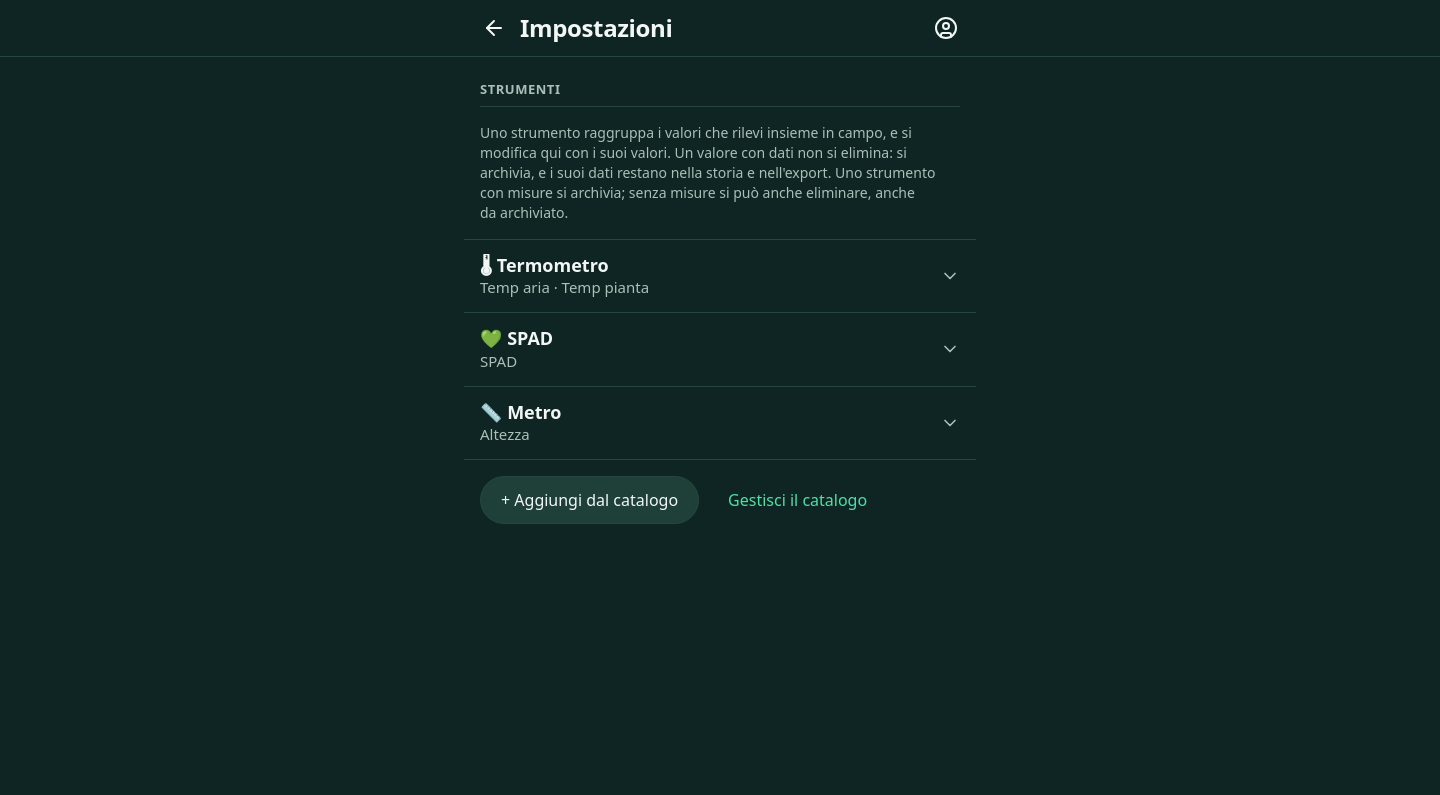
Test case: Impostazioni: dal piano › "Archivia" su uno strumento con misure lo archivia (nessun delete); "Elimina" resta visibile anche con misure
Expected: the element "Strumenti" is shown, [480,81,960,524]
Click the button "🌡 Termometro Temp aria · Temp pianta" at (544, 265), box [464,240,976,312]
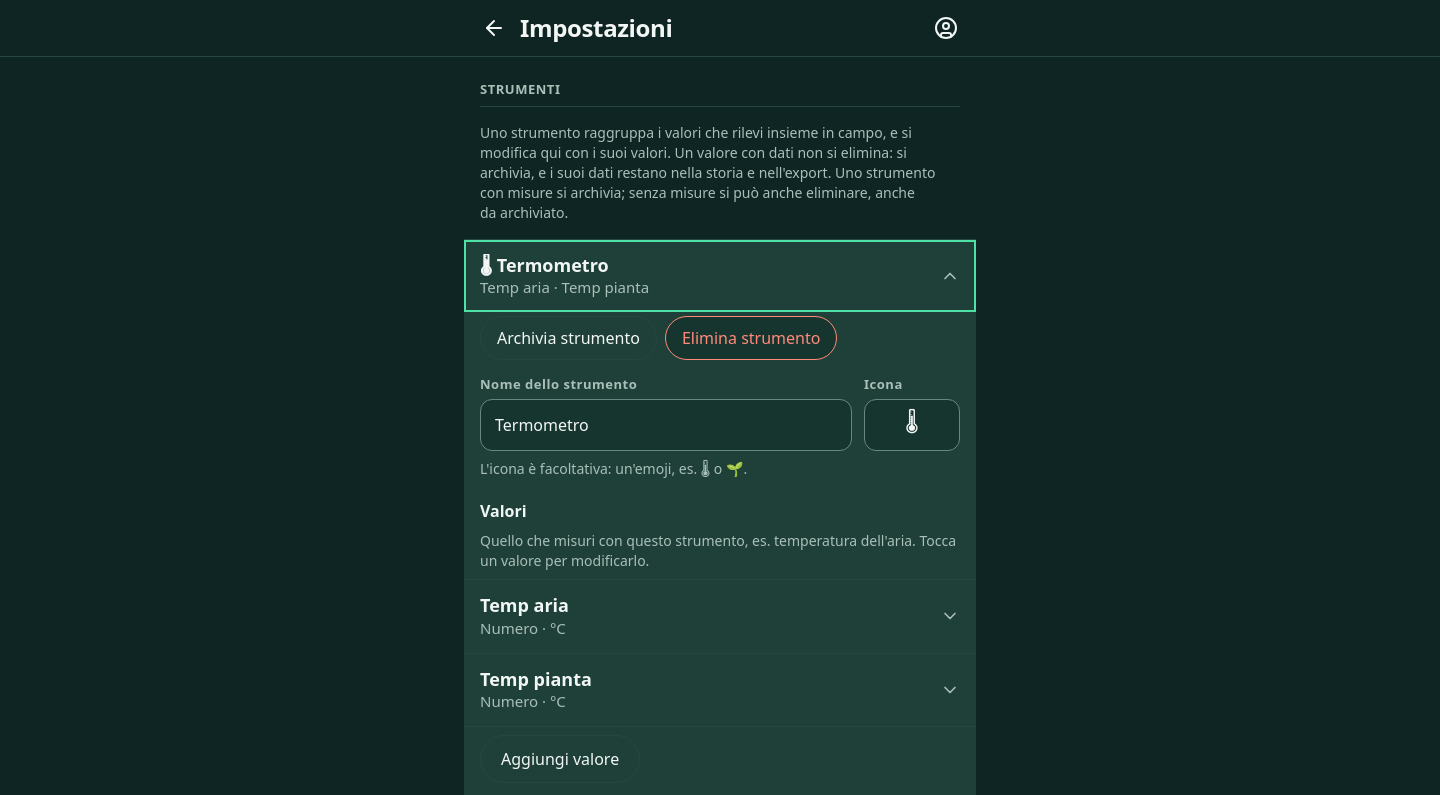
Now the button "Elimina strumento" is enabled, box [665,316,837,360]
Click the button "Archivia strumento" at (568, 338), box [480,316,657,360]
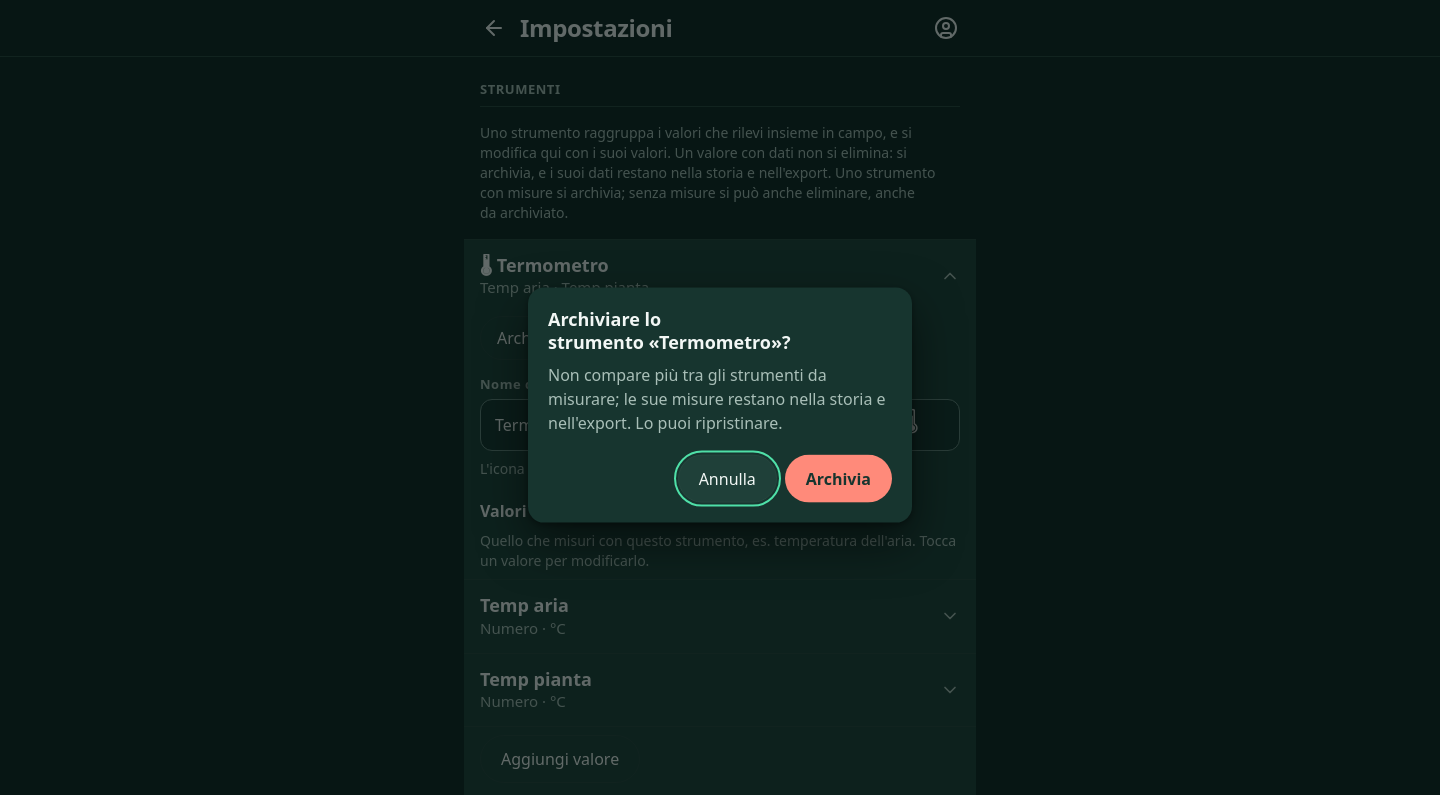
Click the button "Archivia" at (838, 478), box [785,454,892,502]
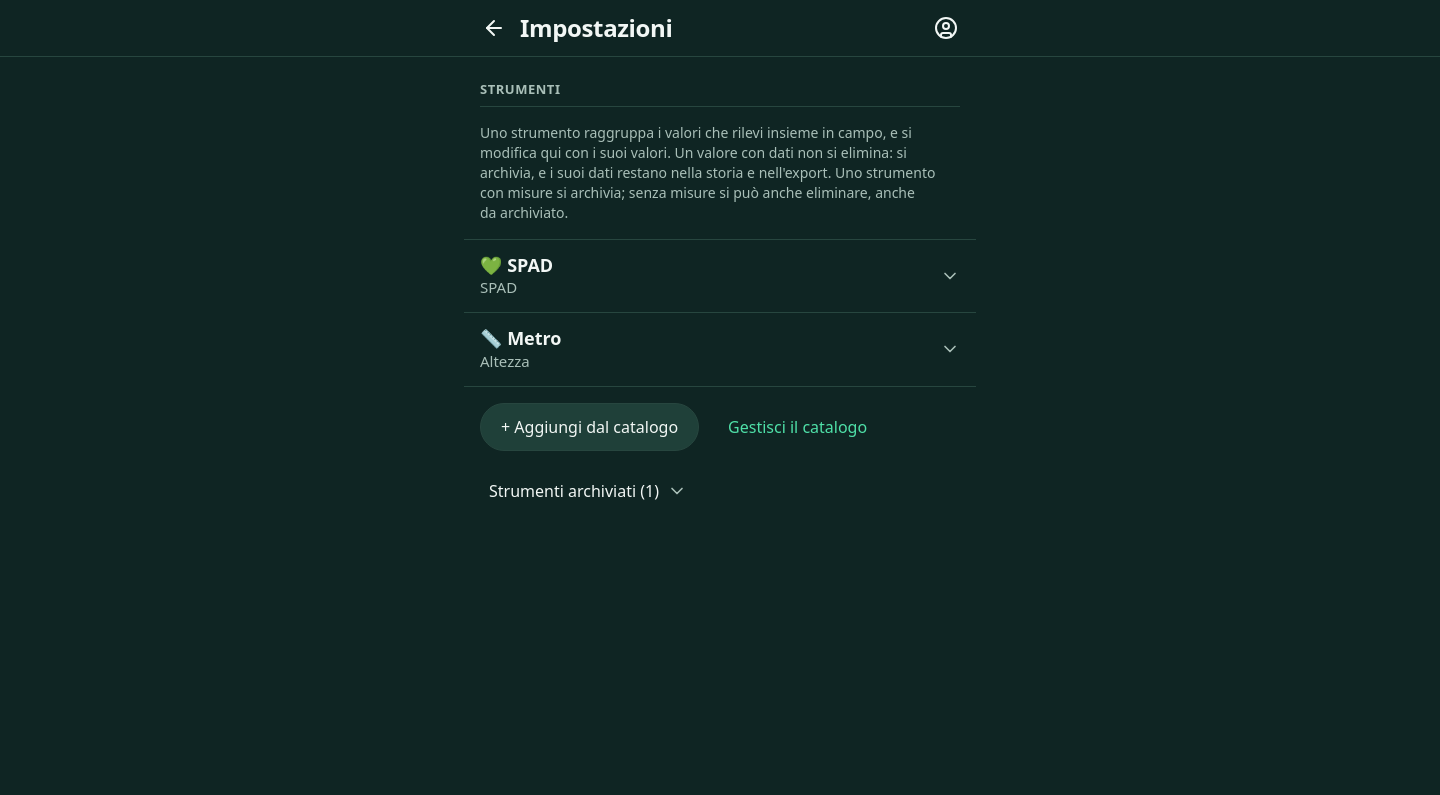
Now the button "🌡 Termometro" is gone
Now the button "Strumenti archiviati (1)" is shown, box [468,467,708,515]
Click the button "💚 SPAD SPAD" at (517, 265), box [464,240,976,312]
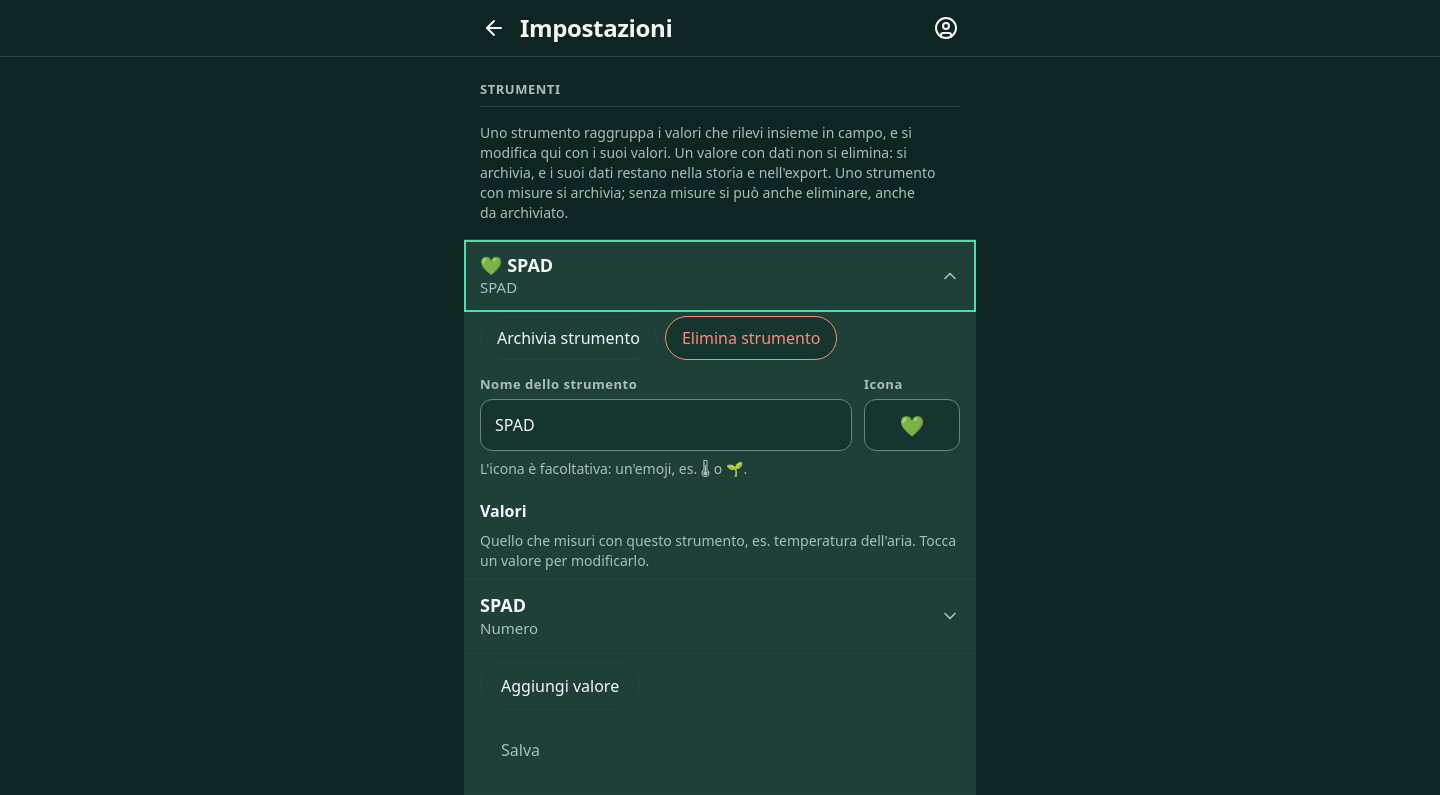
Now the button "Elimina strumento" is enabled, box [665,316,837,360]
